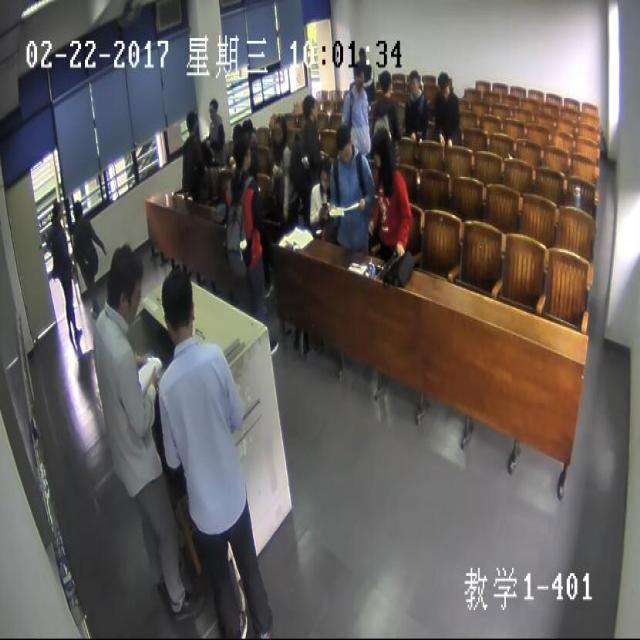person: (100, 241, 142, 320), (158, 262, 196, 341), (333, 122, 353, 164), (371, 128, 391, 170), (316, 150, 334, 192), (270, 113, 288, 150), (232, 139, 252, 171), (301, 92, 317, 125), (437, 68, 451, 102), (183, 105, 198, 136), (405, 67, 420, 98), (379, 69, 391, 98), (230, 120, 243, 146), (351, 63, 363, 90), (48, 199, 62, 222), (206, 96, 218, 118), (355, 44, 367, 66), (71, 200, 82, 223), (240, 117, 252, 138)
